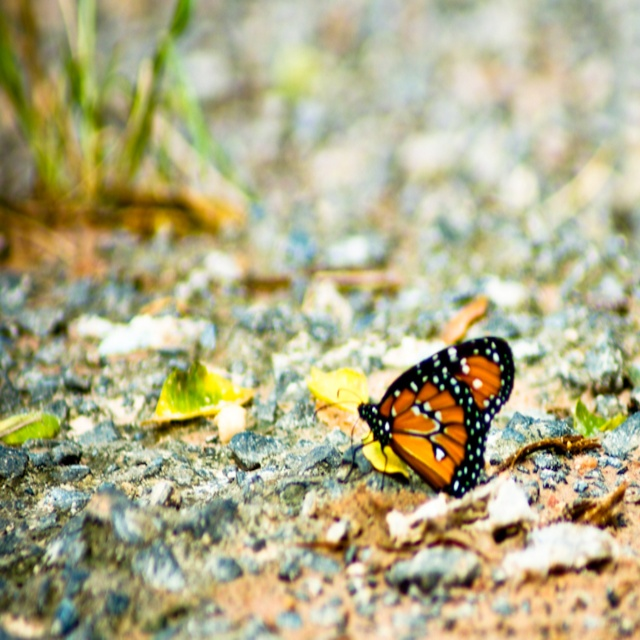Butterfly: (341, 337, 509, 496)
